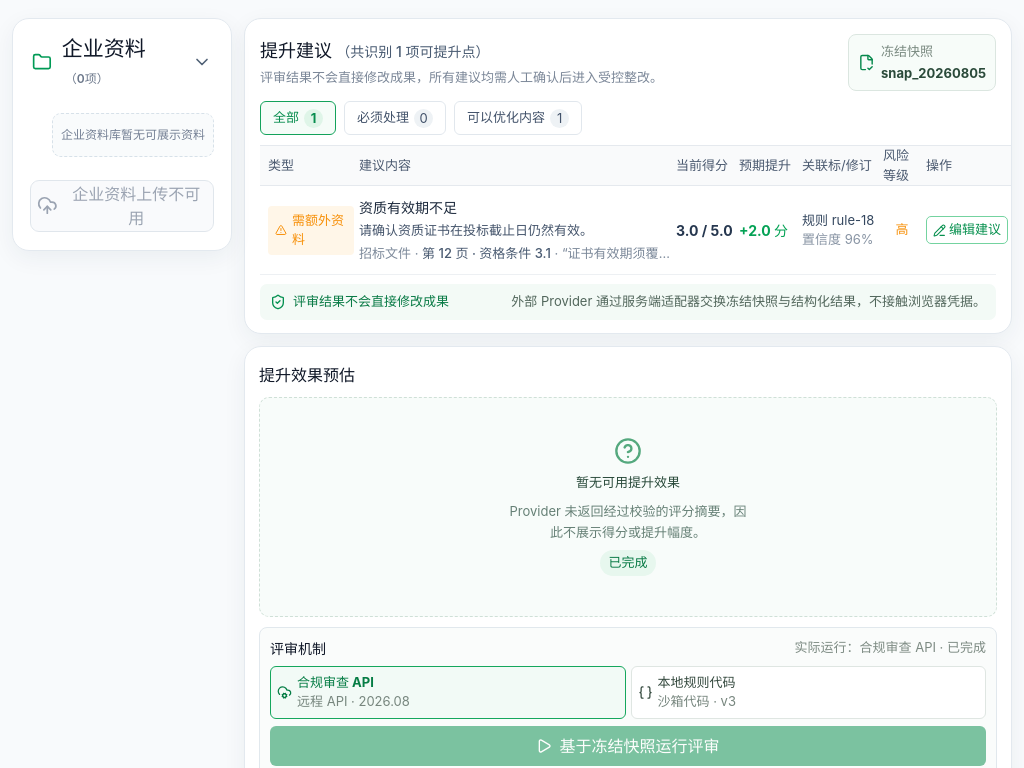
ReviewCenter › edits and saves the displayed suggestion through one accessible entry point
Click the button with aria-label "编辑建议：资质有效期不足" at (967, 230), box [926,216,1008,244]
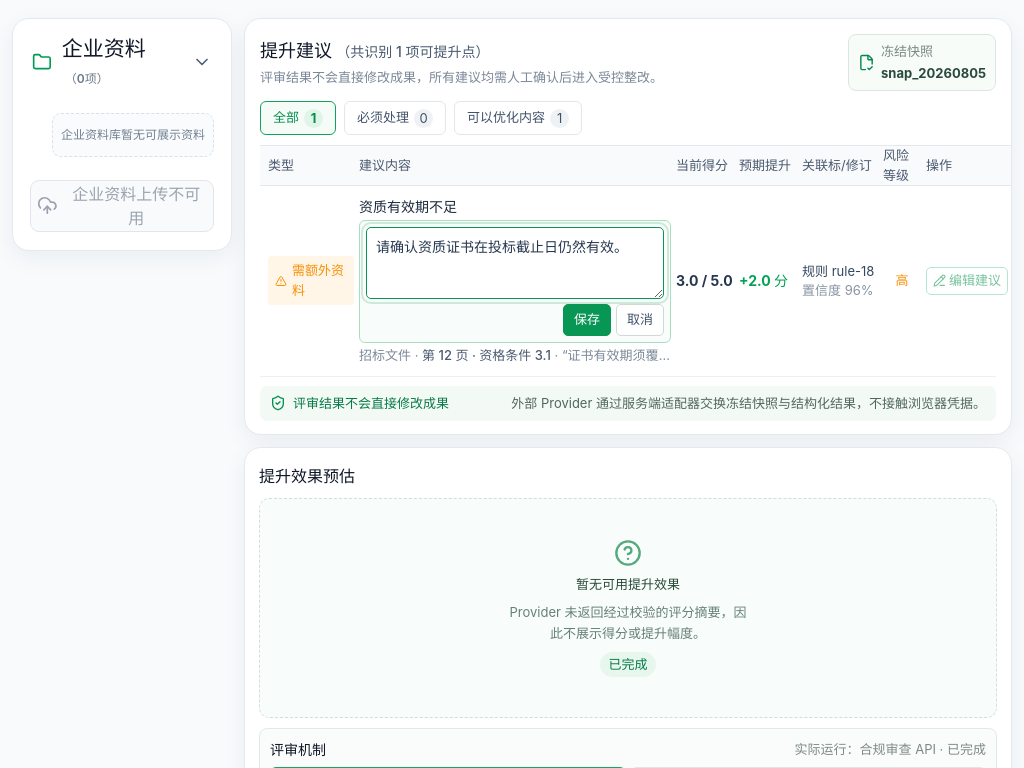
Check: the text box named "编辑“资质有效期不足”的建议内容" holds "请确认资质证书在投标截止日仍然有效。"
Replace the text in the text box named "编辑“资质有效期不足”的建议内容" with "请补充续期证明，并由项目负责人复核。" at (515, 263), box [366,227,664,299]
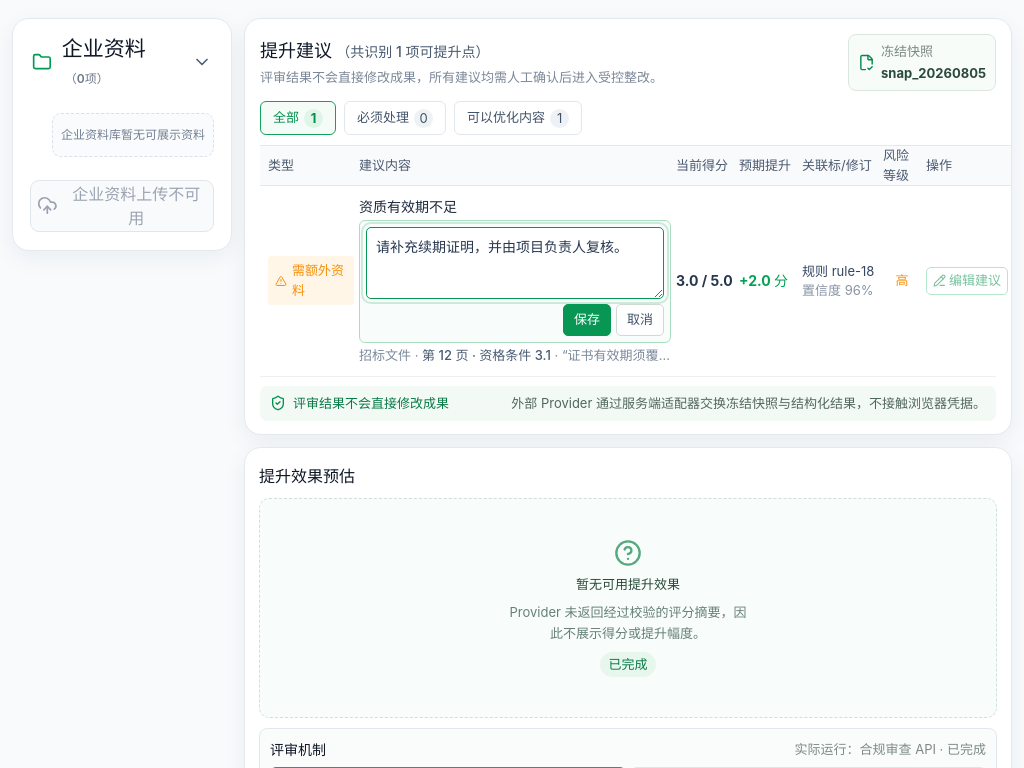
Click the button with aria-label "保存建议：资质有效期不足" at (587, 320), box [563,304,611,336]
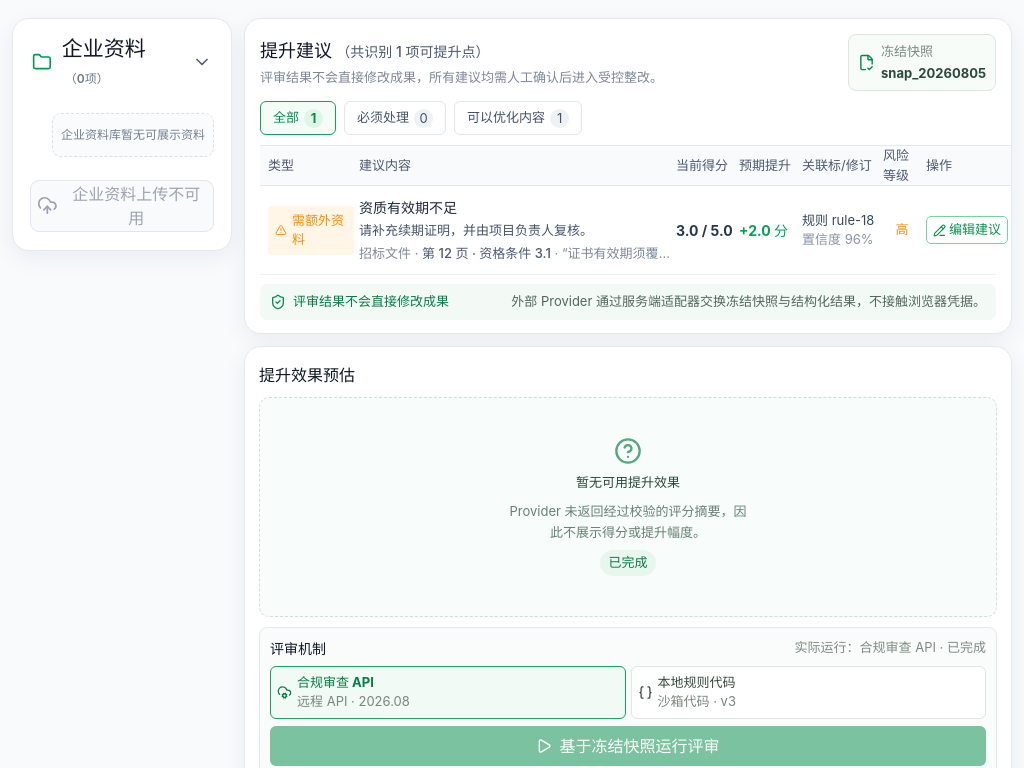
Check: the text "请补充续期证明，并由项目负责人复核。" is shown, box [359,222,593,238]
